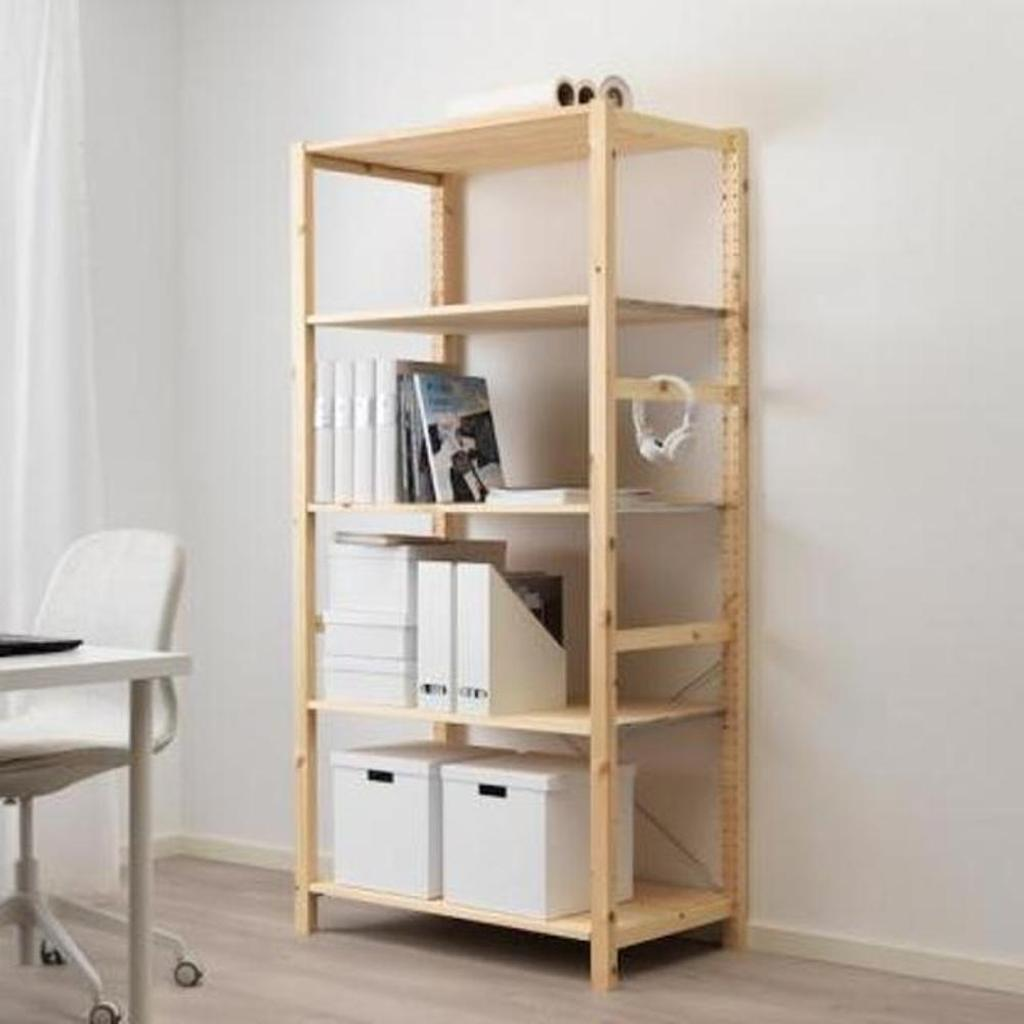lamp: (287, 94, 754, 999)
